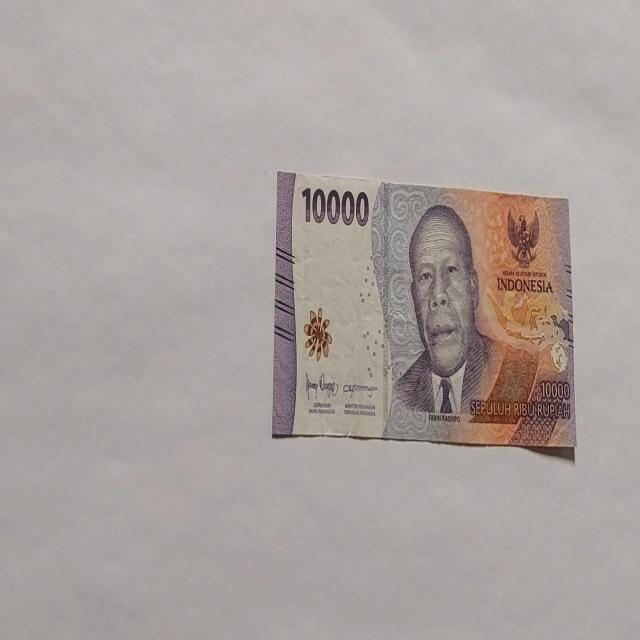sepuluh ribu rupiah: (271, 168, 577, 454)
